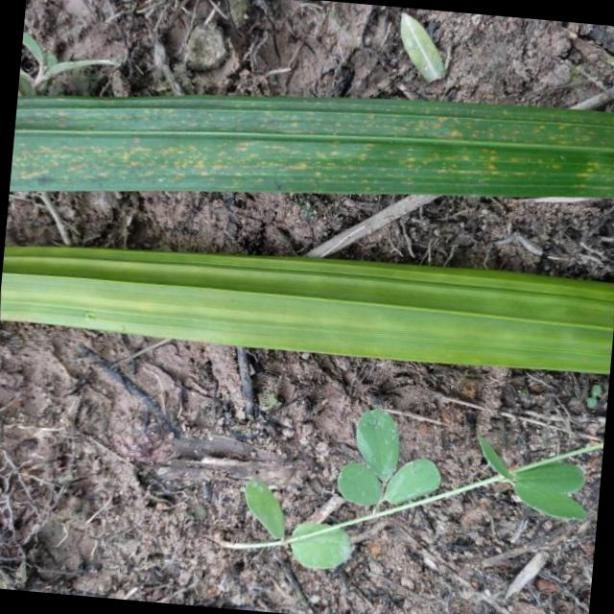nitrogen: (0, 232, 614, 377), (10, 91, 606, 189)
